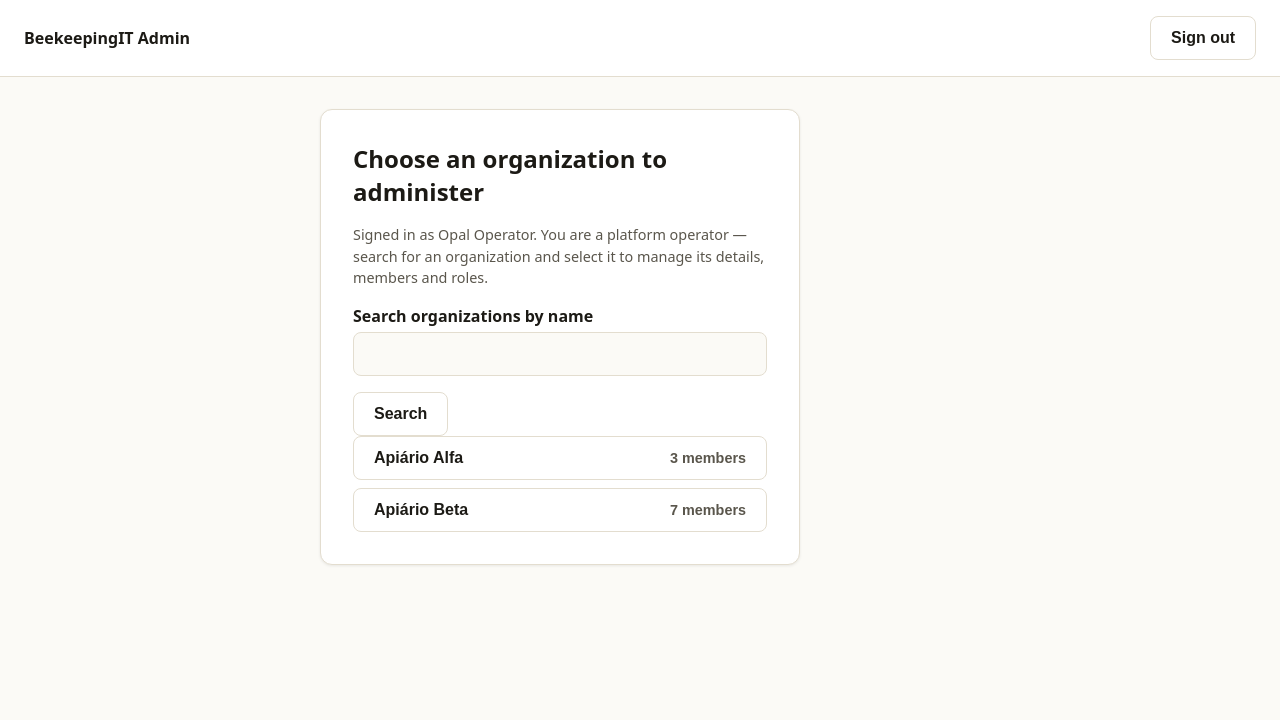
AdminGuard › platform operator (#469, D-32) › selecting an organization drives the detail screens with THAT org's data and shows the persistent operator banner
The image size is (1280, 720).
Click the button "Apiário Beta 7 members". click: coordinates (421, 510)
box: top-left (353, 488), bottom-right (767, 532)
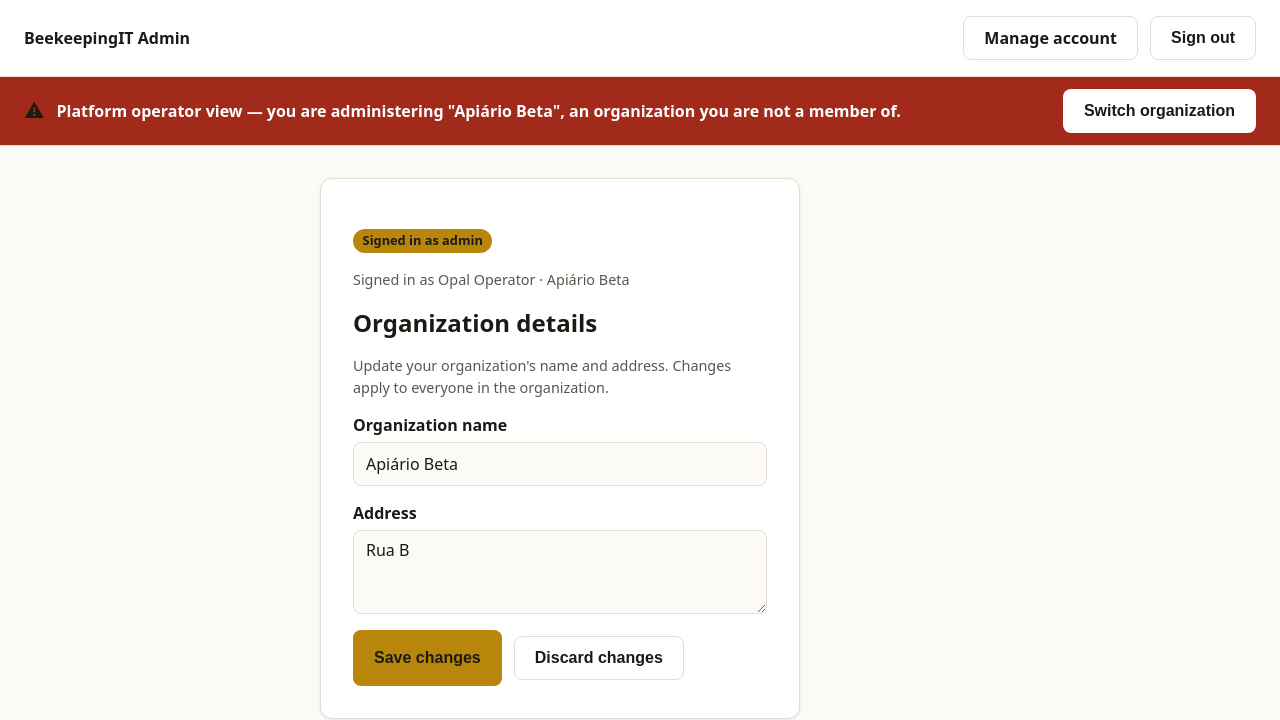
Check: the message shows "Platform operator view", box top-left (56, 100), bottom-right (901, 122)
Check: the message shows "Apiário Beta", box top-left (56, 100), bottom-right (901, 122)
Check: the field showing "Apiário Beta" is shown, box top-left (353, 442), bottom-right (767, 486)
